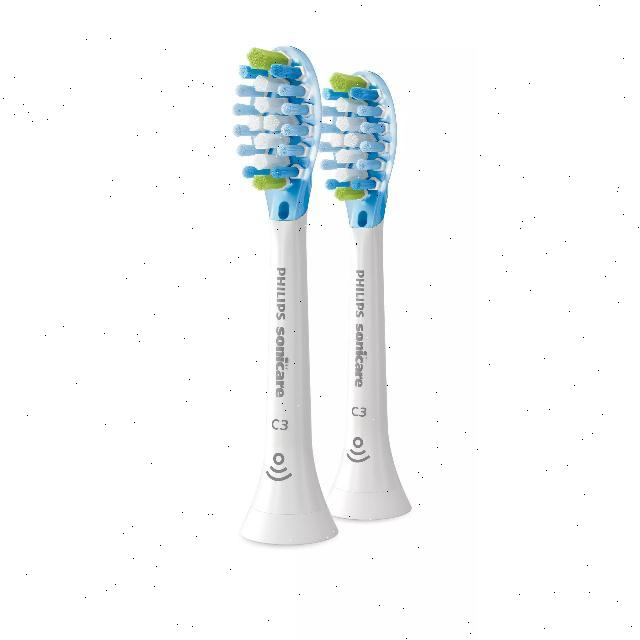toothbrush: (204, 5, 338, 561)
